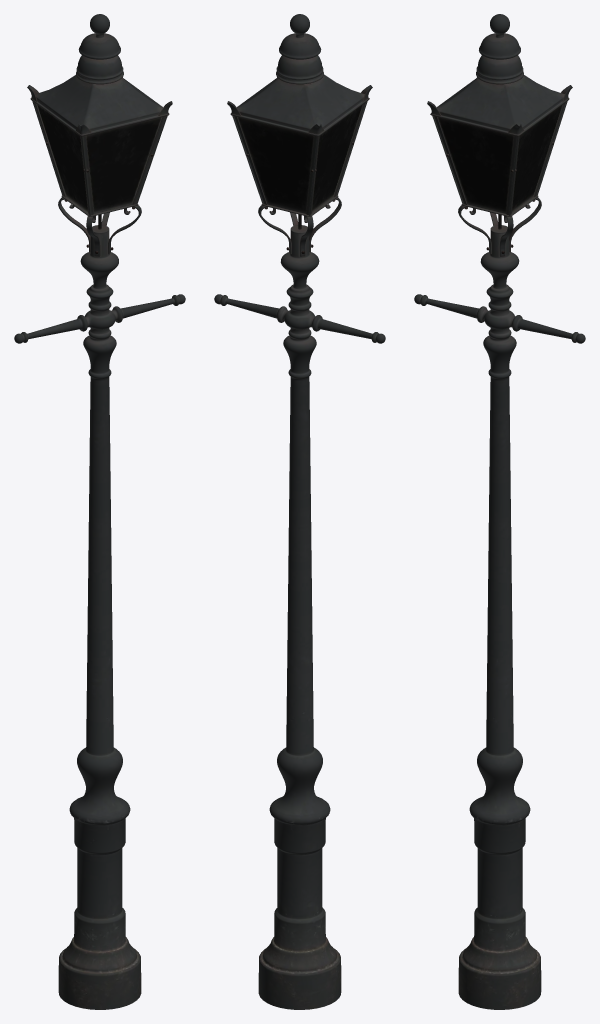
The model's file is street_lamp_01.glb.
The picture shows the model from 3 angles, left to right: view 1: azimuth 30°, elevation 25°; view 2: azimuth 150°, elevation 25°; view 3: azimuth 330°, elevation 25°; orthographic projection.
Parts seen in each view (by area): view 1: street_lamp_01; view 2: street_lamp_01; view 3: street_lamp_01.
Boxes of the visible parts, left/top/right/bottom form: street_lamp_01: left=14, top=14, right=185, bottom=1009; street_lamp_01: left=214, top=14, right=385, bottom=1009; street_lamp_01: left=414, top=14, right=585, bottom=1009.
Bounding box in the file's own units: 0.704 × 3.87 × 0.3865.
Materials: 2 (2 with a texture image).
